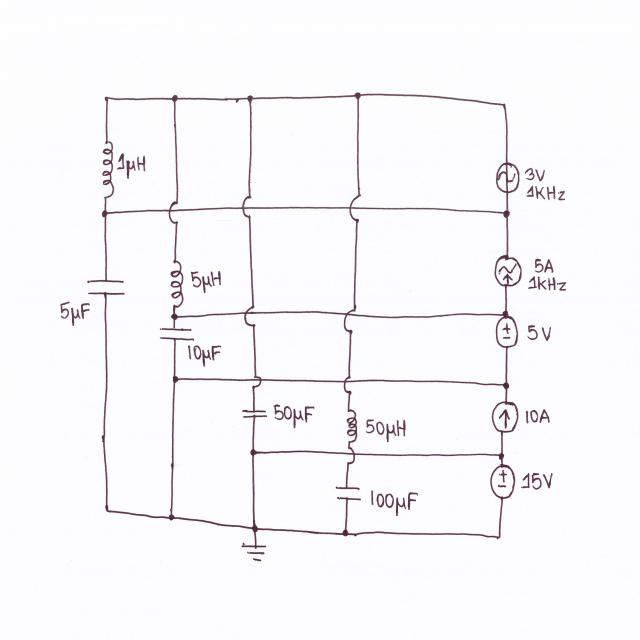ac_current: (492, 160, 522, 197)
capacitor: (83, 270, 127, 303), (156, 321, 198, 348), (333, 482, 365, 506), (237, 404, 271, 426)
current_source: (492, 250, 526, 290), (489, 398, 519, 439)
ground: (239, 536, 271, 572)
inductor: (96, 134, 116, 202), (167, 255, 188, 311), (344, 402, 362, 448)
voltage_source: (486, 460, 521, 502), (494, 313, 525, 356)
